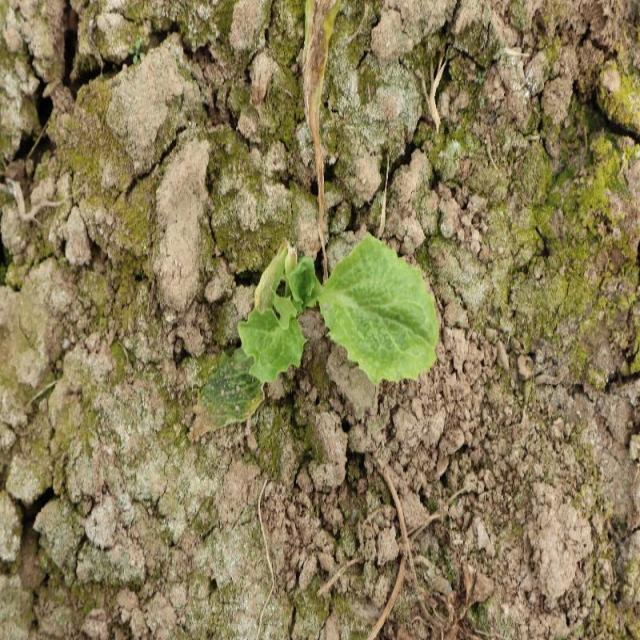crop: (238, 230, 441, 410)
